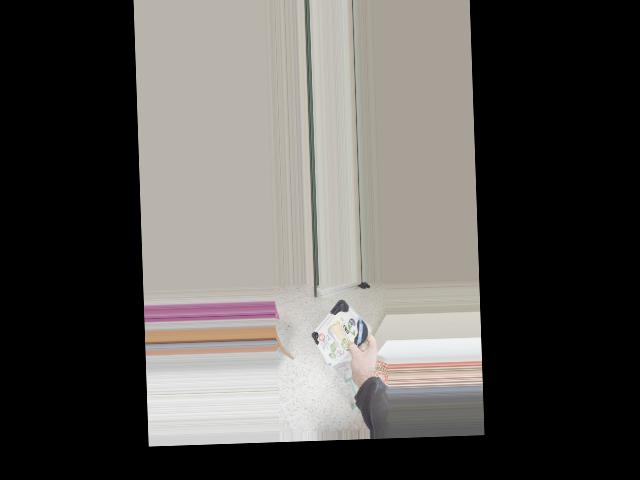cheese: (307, 307, 385, 358)
